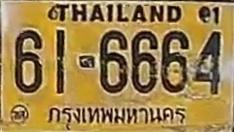1: (55, 29, 65, 93)
4: (194, 30, 221, 94)
6: (14, 29, 42, 93), (99, 29, 127, 92), (160, 30, 188, 92), (131, 30, 157, 93)
BKK: (45, 105, 189, 131)
